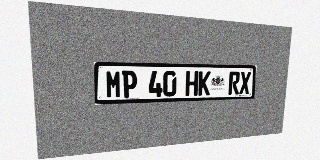0: (163, 71, 177, 97)
4: (149, 71, 163, 97)
H: (185, 71, 198, 96)
K: (198, 71, 211, 96)
M: (105, 70, 122, 98)
P: (122, 70, 137, 98)
R: (228, 71, 240, 95)
X: (239, 72, 251, 94)
